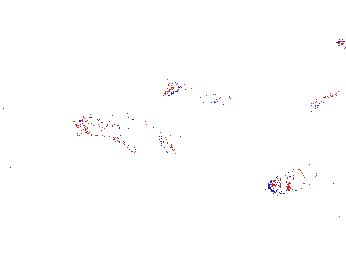X-ray fish: (265, 167, 322, 194), (283, 137, 320, 165), (283, 38, 319, 62)
glassfish: (193, 123, 288, 174), (4, 93, 61, 129)
red belly glassfish: (325, 33, 346, 51)
redtail glassfish: (76, 115, 176, 159), (162, 72, 237, 107), (305, 89, 346, 117)
